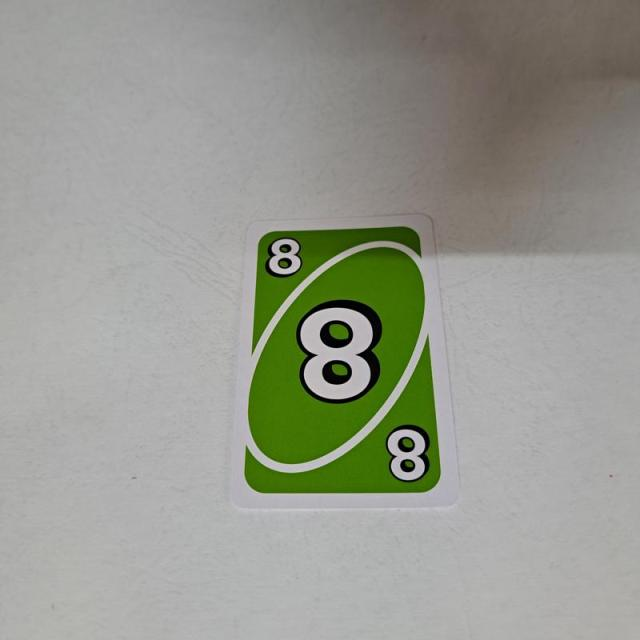Green_Card: (240, 220, 446, 500)
Number_8: (263, 234, 307, 282)
